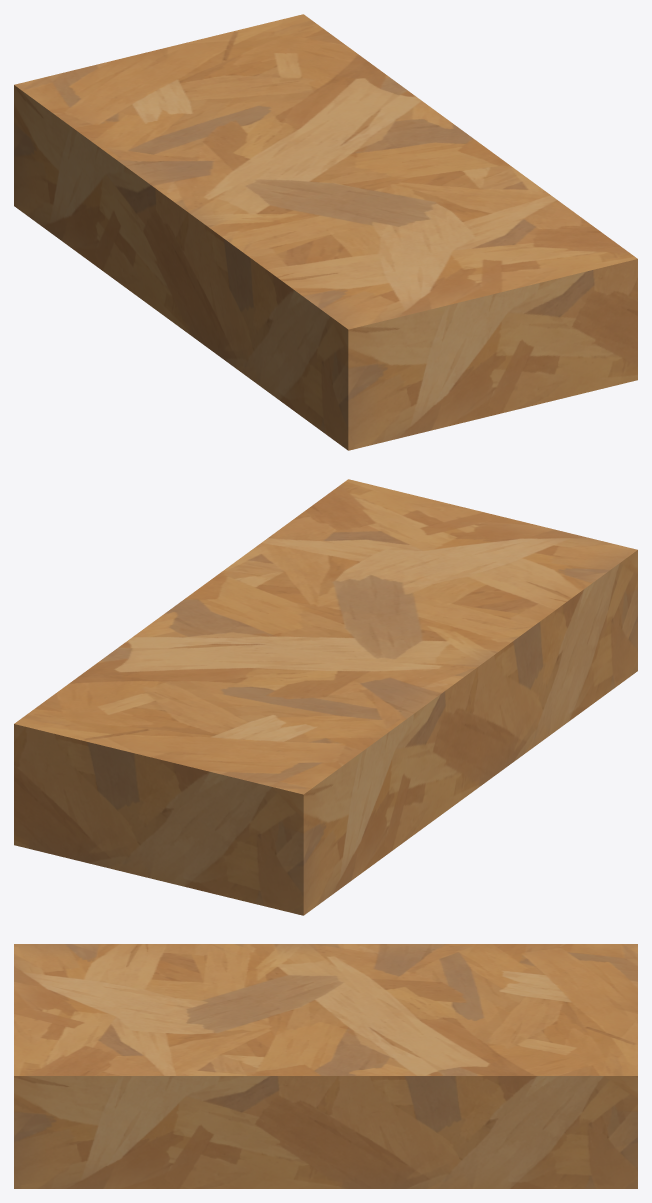
File: SlabHalf.fbx
3 views of the same model, one above another, from view 1: azimuth 30°, elevation 25°; view 2: azimuth 150°, elevation 25°; view 3: azimuth 270°, elevation 25° (orthographic). The views are drawn at different scales.
Parts seen in each view (by area): view 1: mdl_block_slab_half; view 2: mdl_block_slab_half; view 3: mdl_block_slab_half.
Part boxes in pixels (bbox=[...]): mdl_block_slab_half: bbox=[14, 14, 637, 450]; mdl_block_slab_half: bbox=[14, 479, 637, 915]; mdl_block_slab_half: bbox=[14, 944, 637, 1188].
Size of the model in its own units: 0.5 by 0.2 by 1.
